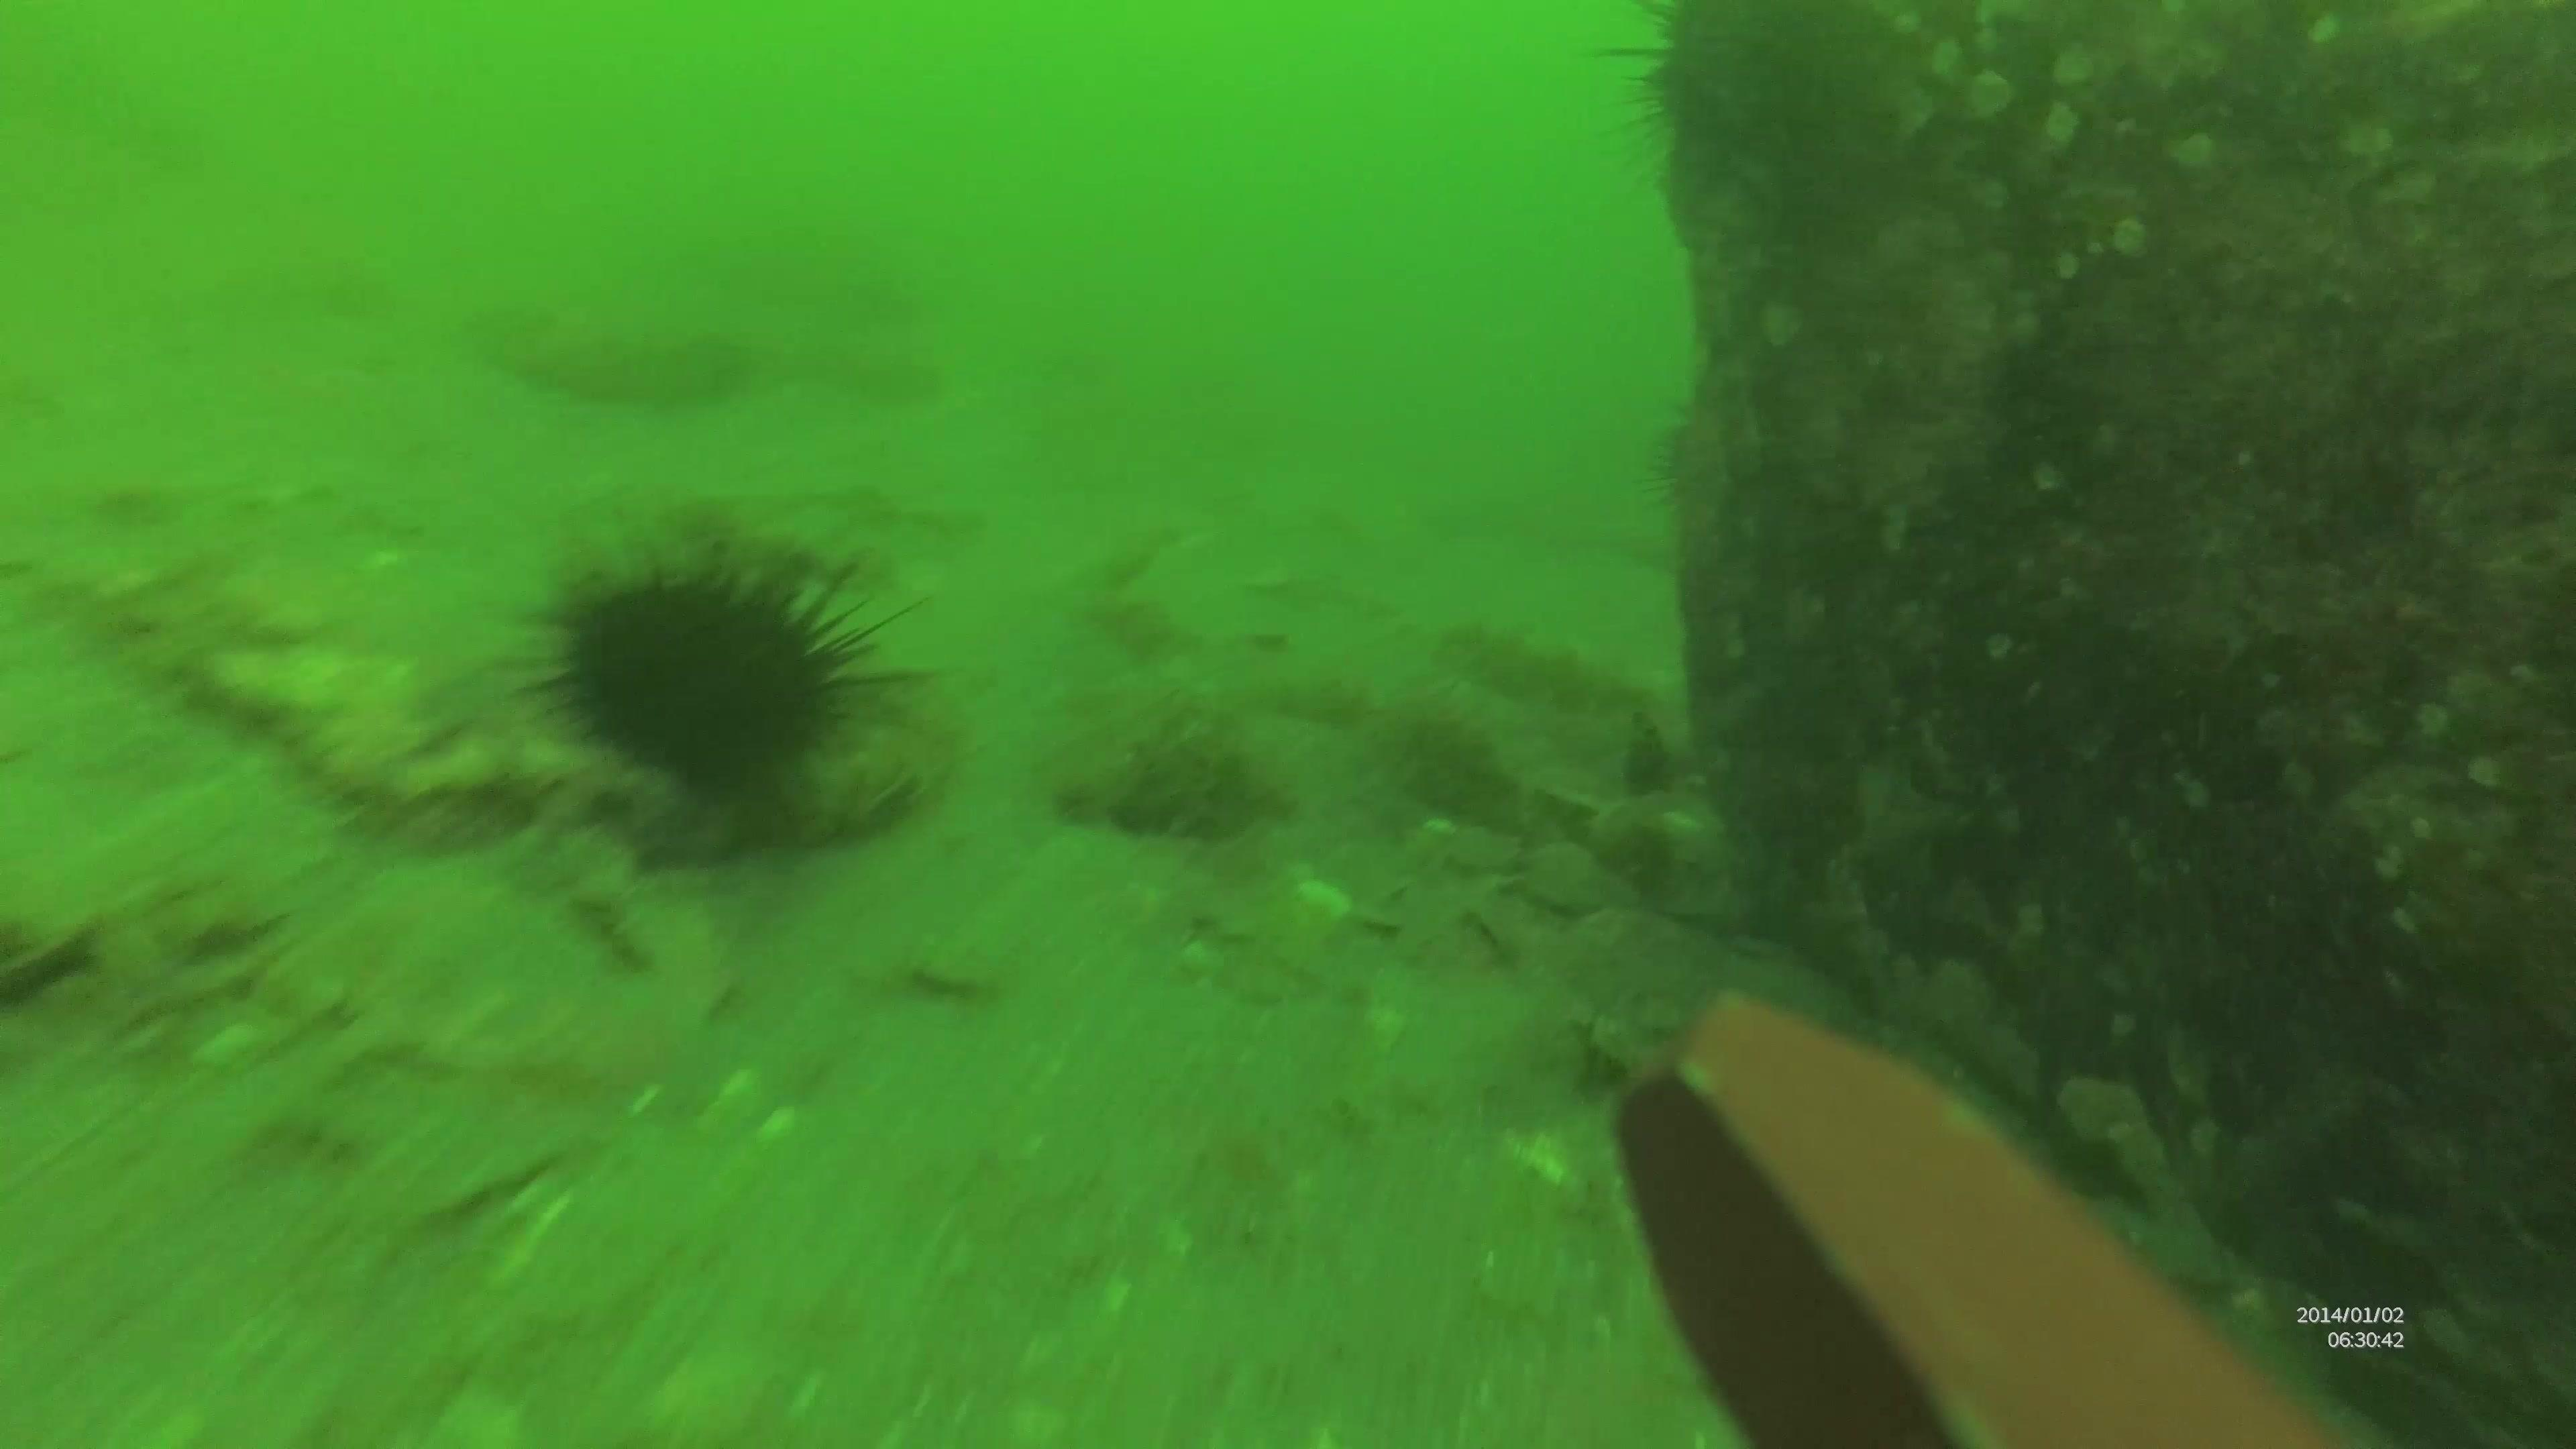echinus: (506, 531, 941, 801), (1606, 0, 1847, 219)
